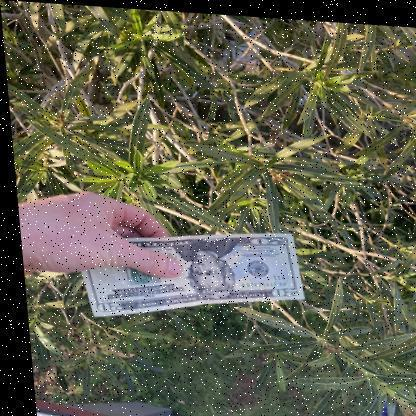twenty-front: (70, 230, 300, 317)
